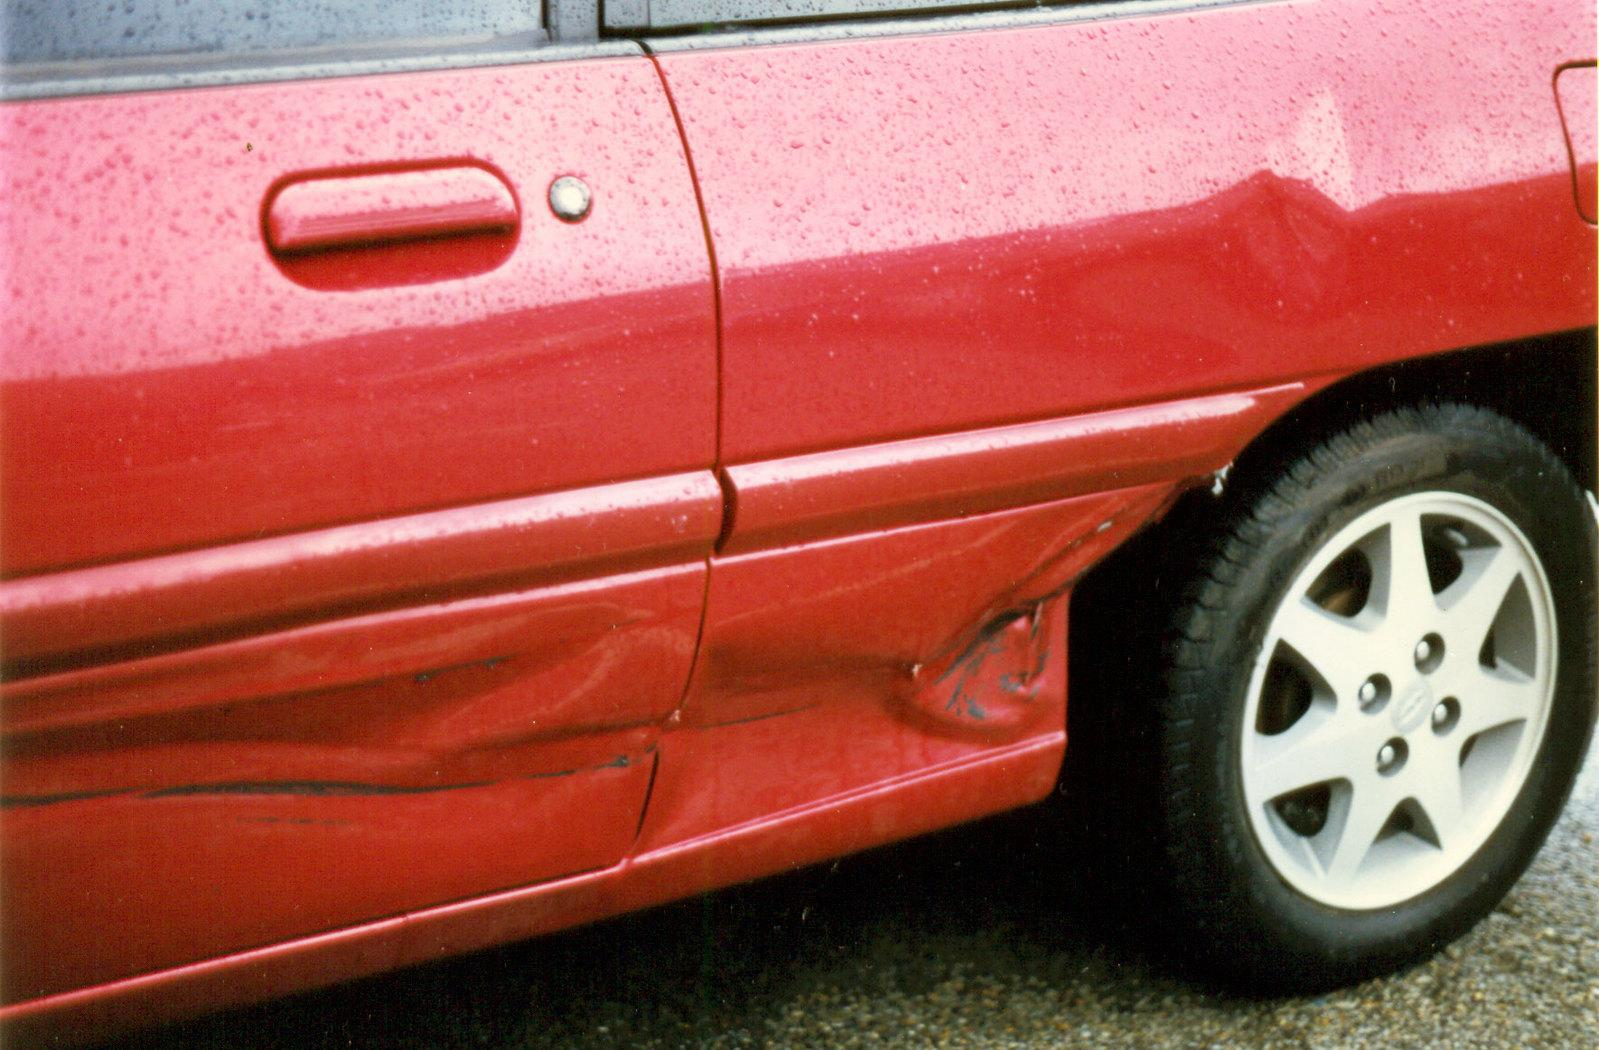quaterpanel-dent: (668, 37, 1374, 810)
